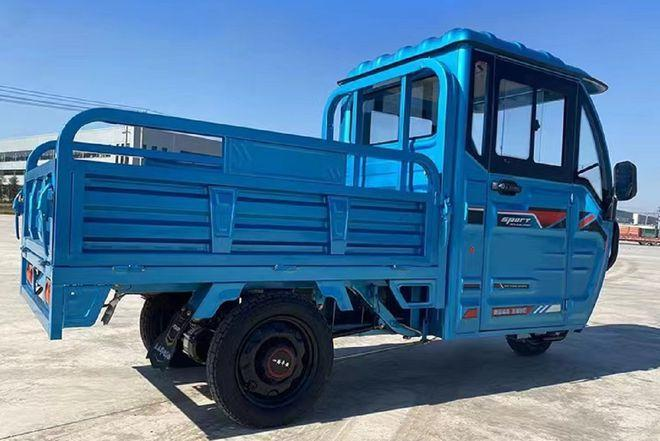empty: (11, 7, 639, 436)
